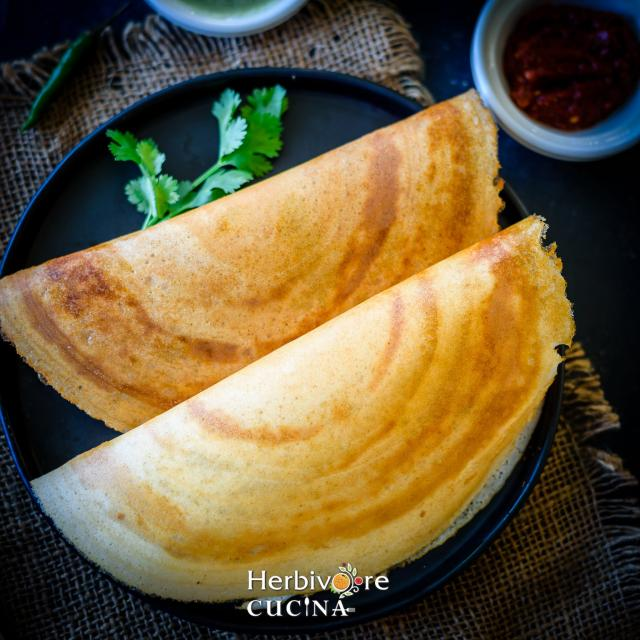DOSA: (25, 205, 580, 596), (0, 85, 506, 430)
